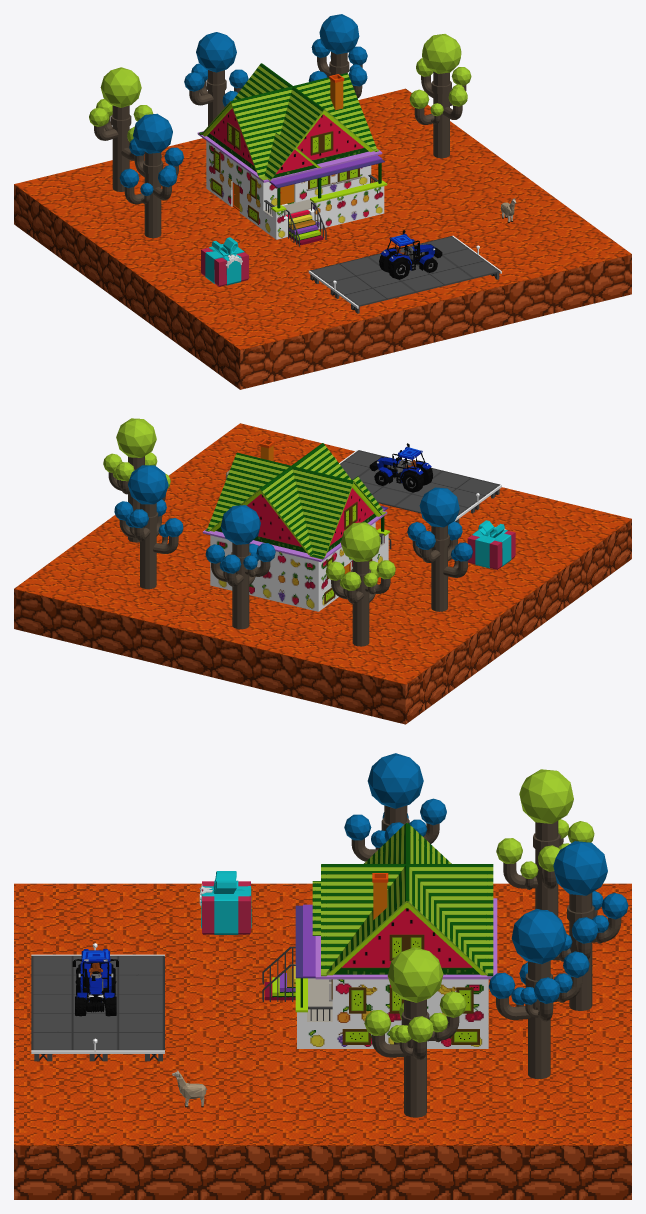
3 views of the same model, one above another, from view 1: azimuth 30°, elevation 25°; view 2: azimuth 150°, elevation 25°; view 3: azimuth 270°, elevation 25° (orthographic). The views are drawn at different scales.
Visible parts, largest first — view 1: Cube.001, Cube.1063, OBJRANDOM_GIANT_PRESENT, VEHICLES_TRACTOR; view 2: Cube.001, Cube.1063, VEHICLES_TRACTOR, OBJRANDOM_GIANT_PRESENT; view 3: Cube.001, Cube.1063, OBJRANDOM_GIANT_PRESENT, VEHICLES_TRACTOR.
Part boxes in pixels (x1,y1,x2,y2): Cube.001: (14, 14, 631, 389); Cube.1063: (197, 63, 387, 246); OBJRANDOM_GIANT_PRESENT: (201, 237, 248, 286); VEHICLES_TRACTOR: (379, 230, 442, 279); Cube.001: (14, 418, 631, 724); Cube.1063: (202, 439, 391, 611); VEHICLES_TRACTOR: (369, 443, 432, 492); OBJRANDOM_GIANT_PRESENT: (467, 520, 515, 569); Cube.001: (14, 753, 631, 1199); Cube.1063: (262, 823, 497, 1048); OBJRANDOM_GIANT_PRESENT: (199, 871, 251, 934); VEHICLES_TRACTOR: (72, 949, 118, 1016).
Bounding box in the file's own units: 4000 × 1642 × 4000.
33 materials, 6 textured.
